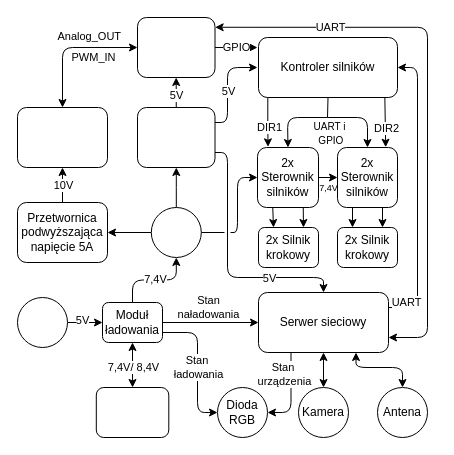
Some shapes in this 454 by 455 pixel diagram are drawn without their labels. Here are the shapes that lost their labels. From the top down, the centre of each, then its label:
point 175,47: Wykrywacz metalu
point 62,137: Elektronika analogowa
point 175,137: Przetwornica obniżająca napięcie 3A
point 175,232: Włącznik
point 42,322: Wejście USB-C
point 132,412: Akumulator 2S
